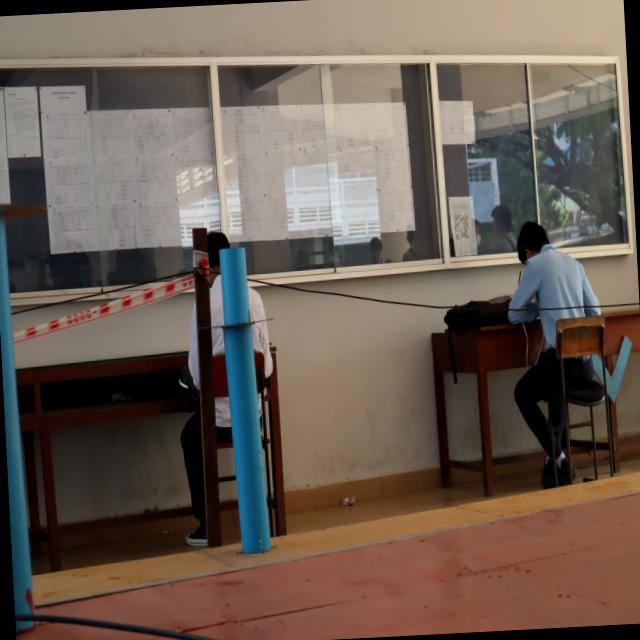pole: (190, 238, 288, 384)
